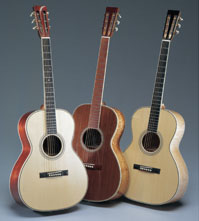guitar: (10, 6, 88, 213), (120, 8, 190, 206), (73, 6, 129, 204)
